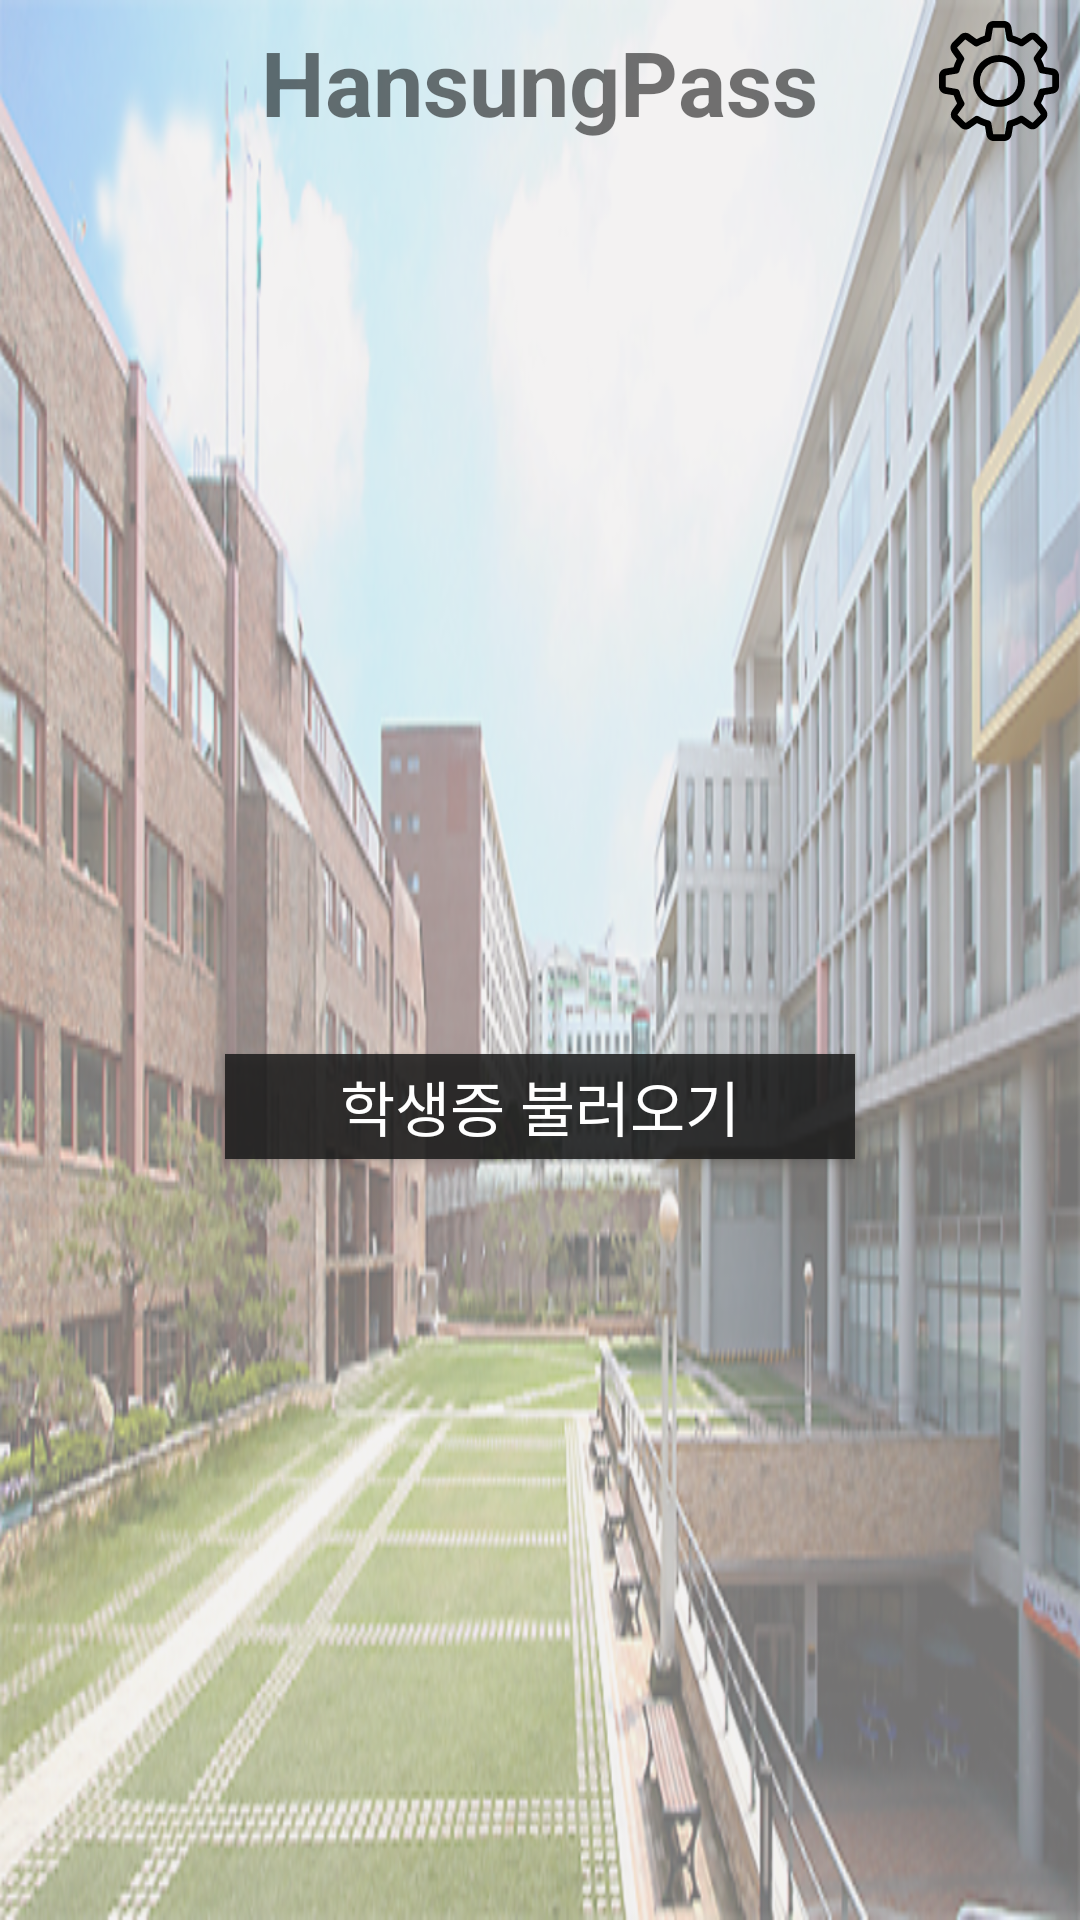

Point at icon controls on the screen. Image size 1080 × 1920, points as point (x, y).
settings: point (999, 81)
